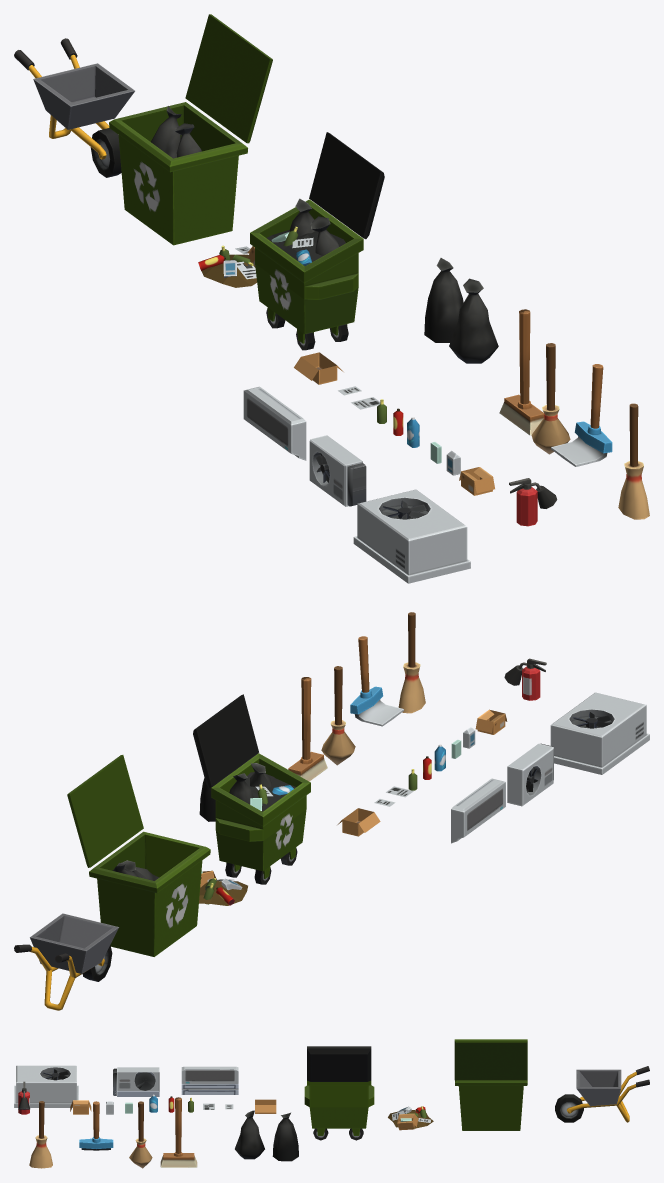
The model's file is items env.fbx.
3 renders of one model, top to bottom at view 1: azimuth 30°, elevation 25°; view 2: azimuth 150°, elevation 25°; view 3: azimuth 270°, elevation 25°, orthographic. The views are drawn at different scales.
Parts seen in each view (by area): view 1: bak1, bak2, kondicioner1, Object082, kondicioner2, kondicioner3, trash bag2, fetlock2, trash bag1, fetlock1, trash2, vennik2 (+5 smaller); view 2: bak1, bak2, kondicioner1, Object082, kondicioner2, kondicioner3, fetlock2, fetlock1, vennik1, vennik2, trash2, Trash1 (+3 smaller); view 3: bak1, bak2, Object082, kondicioner1, kondicioner3, kondicioner2, trash bag1, fetlock1, trash bag2, Trash1, vennik2, fetlock2 (+4 smaller).
Part boxes in pixels (bbox=[...]): bak1: bbox=[109, 14, 272, 245]; bak2: bbox=[250, 132, 384, 350]; kondicioner1: bbox=[353, 489, 470, 583]; Object082: bbox=[14, 38, 134, 177]; kondicioner2: bbox=[309, 435, 366, 506]; kondicioner3: bbox=[243, 386, 306, 460]; trash bag2: bbox=[449, 278, 498, 363]; fetlock2: bbox=[551, 364, 612, 466]; trash bag1: bbox=[424, 258, 463, 342]; fetlock1: bbox=[499, 309, 543, 435]; trash2: bbox=[266, 198, 345, 265]; vennik2: bbox=[618, 403, 649, 519]; bak1: bbox=[67, 755, 210, 956]; bak2: bbox=[193, 694, 310, 884]; kondicioner1: bbox=[550, 692, 649, 774]; Object082: bbox=[14, 913, 118, 1010]; kondicioner2: bbox=[507, 743, 553, 806]; kondicioner3: bbox=[451, 778, 505, 843]; fetlock2: bbox=[350, 636, 403, 726]; fetlock1: bbox=[288, 677, 327, 781]; vennik1: bbox=[321, 666, 355, 765]; vennik2: bbox=[398, 612, 425, 713]; trash2: bbox=[229, 763, 295, 811]; Trash1: bbox=[199, 870, 247, 905]; bak1: bbox=[454, 1039, 527, 1130]; bak2: bbox=[304, 1046, 374, 1140]; Object082: bbox=[555, 1066, 649, 1122]; kondicioner1: bbox=[14, 1065, 78, 1107]; kondicioner3: bbox=[181, 1066, 238, 1094]; kondicioner2: bbox=[113, 1067, 159, 1096]; trash bag1: bbox=[272, 1112, 298, 1161]; fetlock1: bbox=[160, 1097, 197, 1167]; trash bag2: bbox=[235, 1110, 264, 1159]; Trash1: bbox=[388, 1106, 433, 1130]; vennik2: bbox=[29, 1101, 52, 1168]; fetlock2: bbox=[79, 1101, 113, 1150].
Size of the model in its own units: 218 by 154 by 716.
